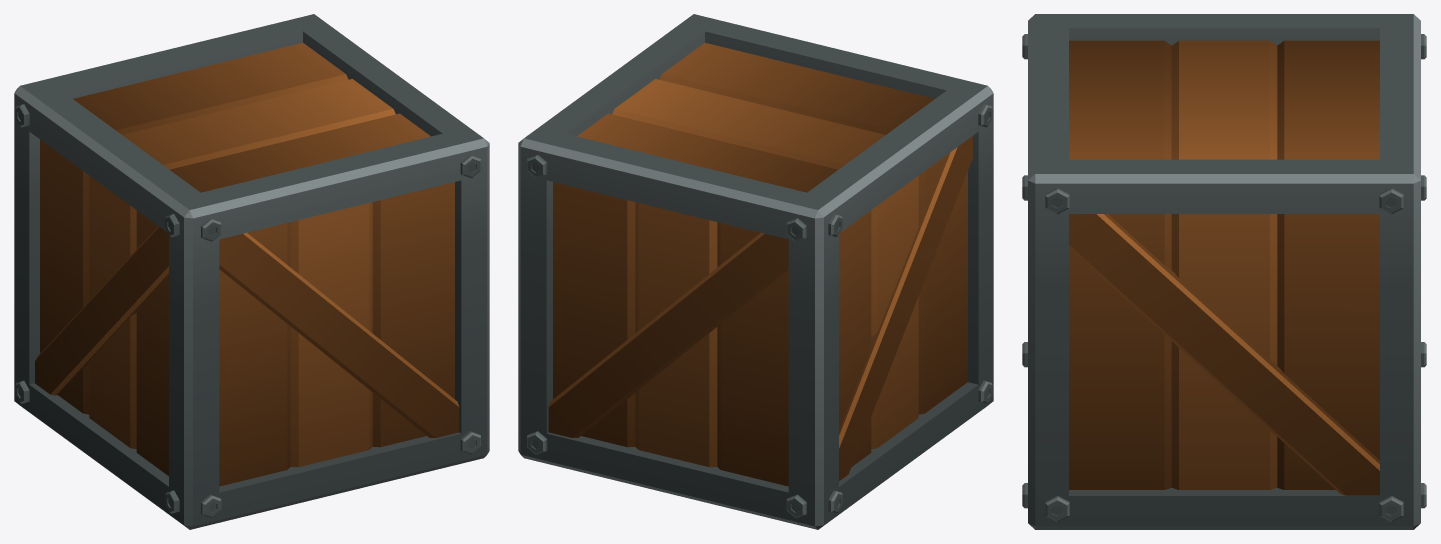
The picture shows the model from 3 angles, left to right: view 1: azimuth 30°, elevation 25°; view 2: azimuth 150°, elevation 25°; view 3: azimuth 270°, elevation 25°; orthographic projection. The views are drawn at different scales.
Parts seen in each view (by area): view 1: Box-1-1; view 2: Box-1-1; view 3: Box-1-1.
Part boxes in pixels (x1,y1,x2,y2): Box-1-1: [14, 14, 489, 529]; Box-1-1: [518, 14, 993, 529]; Box-1-1: [1022, 14, 1426, 529].
Size of the model in its own units: 94.07 by 91.39 by 94.07.
